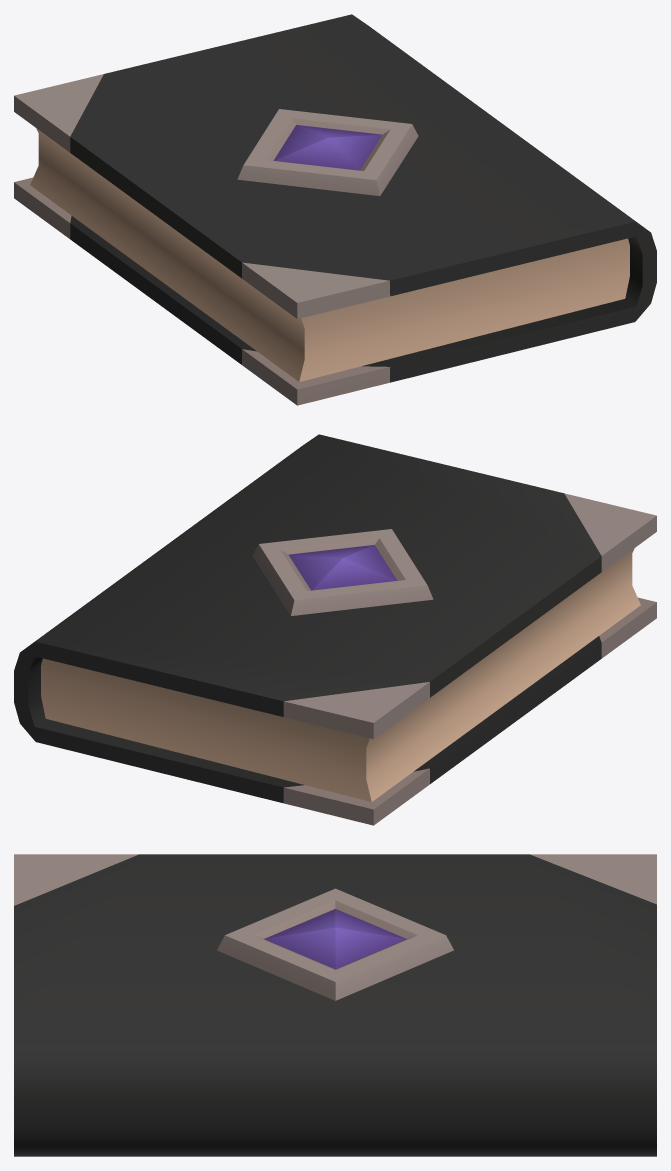
The model's file is BookClosed9.fbx.
3 views of the same model, one above another, from view 1: azimuth 30°, elevation 25°; view 2: azimuth 150°, elevation 25°; view 3: azimuth 270°, elevation 25° (orthographic). The views are drawn at different scales.
Visible parts, largest first — view 1: BookClosed9; view 2: BookClosed9; view 3: BookClosed9.
Boxes of the visible parts, bbox=[...] form: BookClosed9: bbox=[14, 14, 656, 405]; BookClosed9: bbox=[14, 434, 656, 825]; BookClosed9: bbox=[14, 854, 656, 1156].
Size of the model in its own units: 22 by 7.14 by 30.01.
